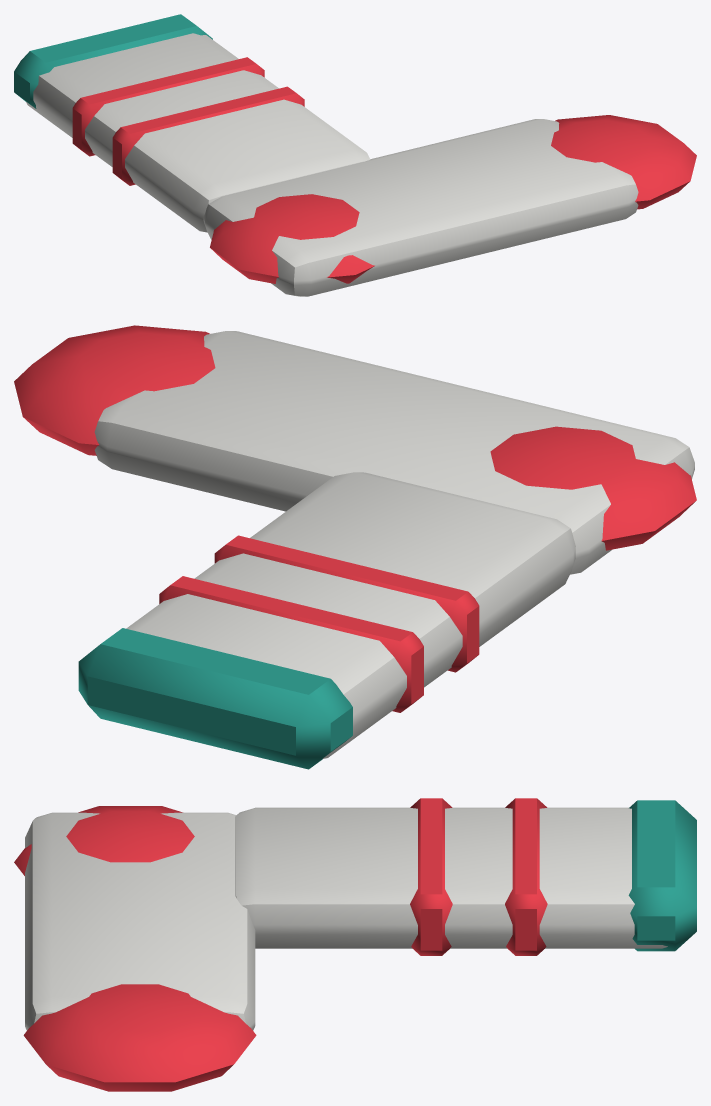
Rendered from sock.glb.
The picture shows the model from 3 angles, top to bottom: view 1: azimuth 30°, elevation 25°; view 2: azimuth 150°, elevation 25°; view 3: azimuth 270°, elevation 25°; orthographic projection. The views are drawn at different scales.
Visible parts, largest first — view 1: body; view 2: body; view 3: body.
Part boxes in pixels (x1,y1,x2,y2): body: [14, 14, 696, 296]; body: [14, 325, 696, 769]; body: [14, 798, 696, 1091].
Bounding box in the file's own units: 23.18 × 2.79 × 25.2.
